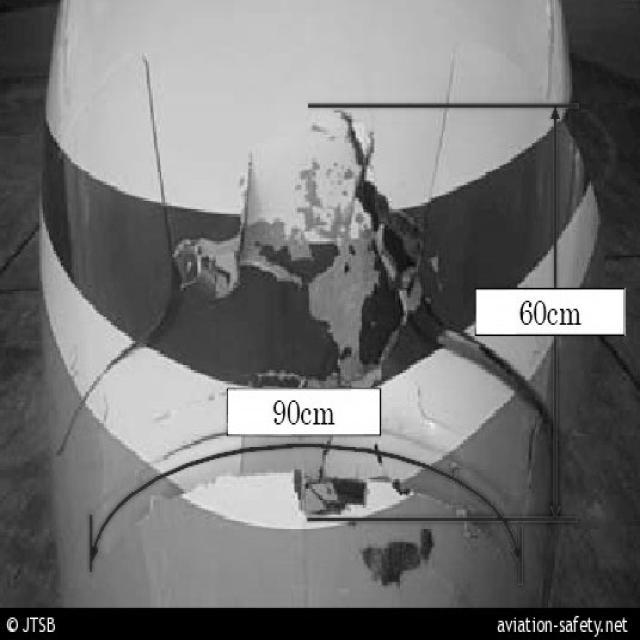crack: (334, 114, 550, 482), (60, 46, 187, 463), (219, 146, 263, 309)
